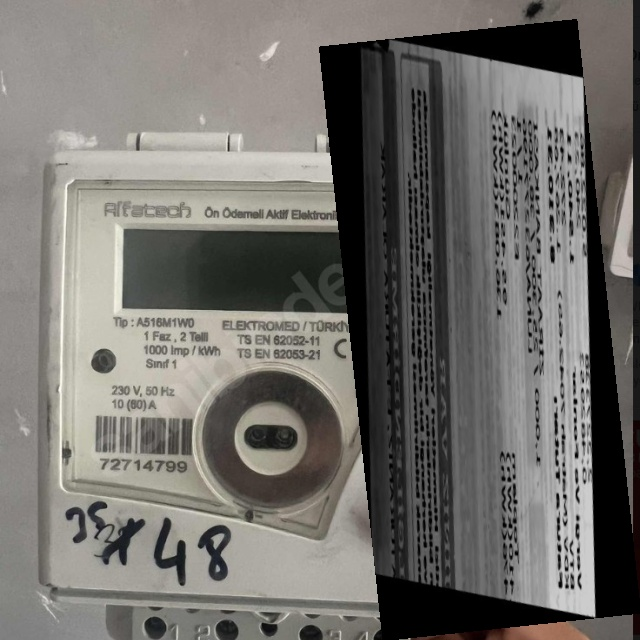electricity-bill: (318, 18, 639, 639)
